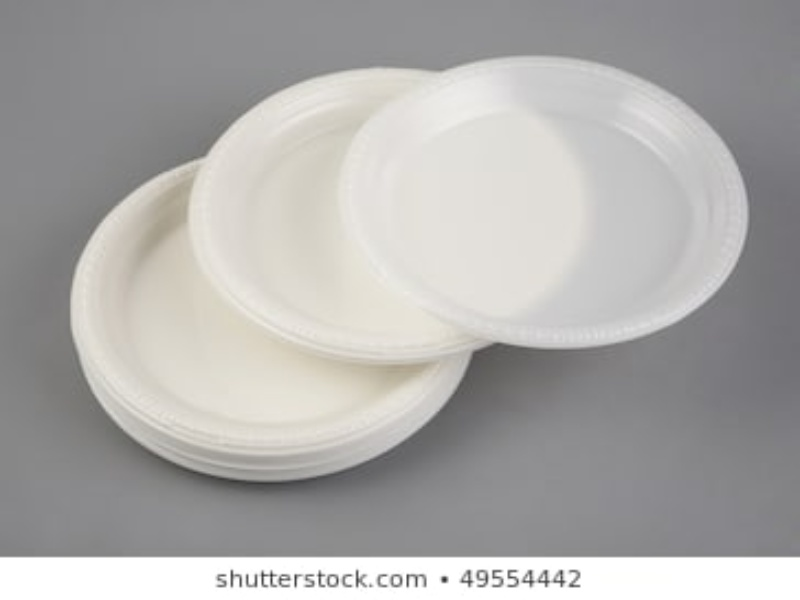plastic-plate: (69, 150, 479, 483), (346, 54, 748, 345), (187, 67, 494, 358)
